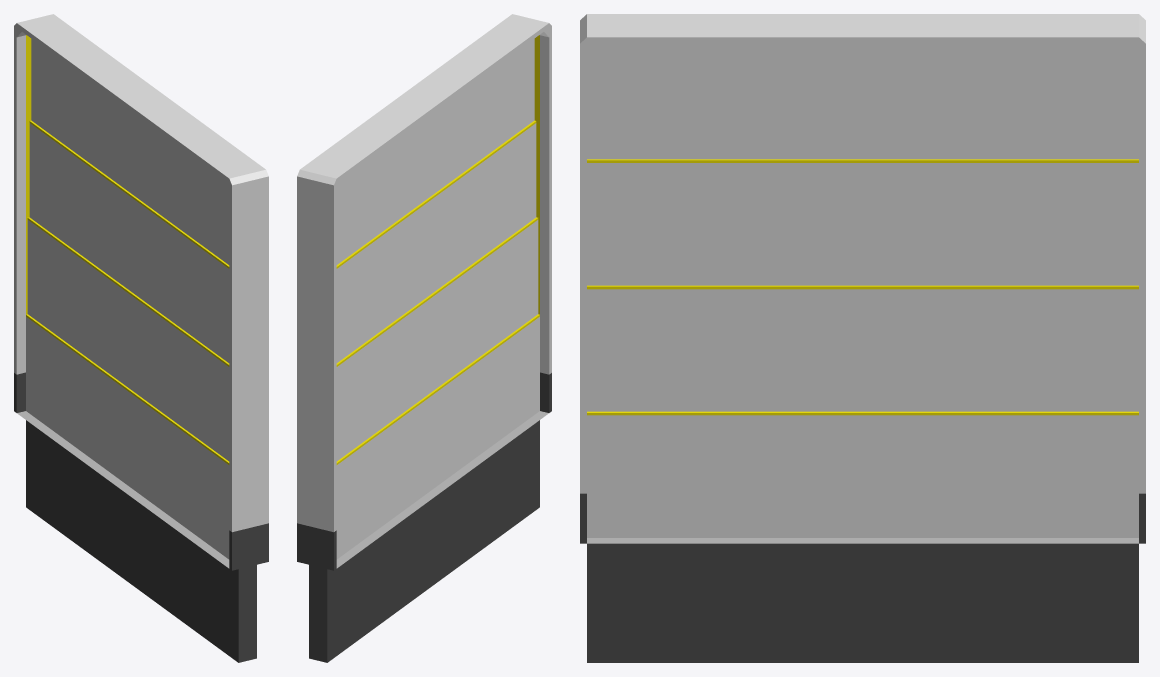
The model's file is InteriorDoor(0.2x2x2).fbx.
3 renders of one model, left to right at view 1: azimuth 30°, elevation 25°; view 2: azimuth 150°, elevation 25°; view 3: azimuth 270°, elevation 25°, orthographic. The views are drawn at different scales.
Parts seen in each view (by area): view 1: Frame, Door P0, Door P1, Door P2, Door P3; view 2: Frame, Door P0, Door P1, Door P2, Door P3; view 3: Frame, Door P0, Door P1, Door P2, Door P3.
Part boxes in pixels (<box>): Frame: <box>14,14,268,662</box>; Door P0: <box>26,314,229,559</box>; Door P1: <box>27,217,229,461</box>; Door P2: <box>29,120,229,362</box>; Door P3: <box>31,39,229,264</box>; Frame: <box>297,14,551,662</box>; Door P0: <box>336,314,539,559</box>; Door P1: <box>336,217,538,461</box>; Door P2: <box>336,120,536,362</box>; Door P3: <box>336,39,534,264</box>; Frame: <box>580,14,1145,662</box>; Door P0: <box>587,411,1138,537</box>; Door P1: <box>587,285,1138,411</box>; Door P2: <box>587,159,1138,285</box>; Door P3: <box>587,43,1138,159</box>.
Bounding box in the file's own units: 20 × 253 × 205.
